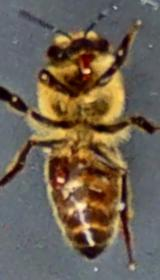varroa_mite: (44, 155, 72, 194)
